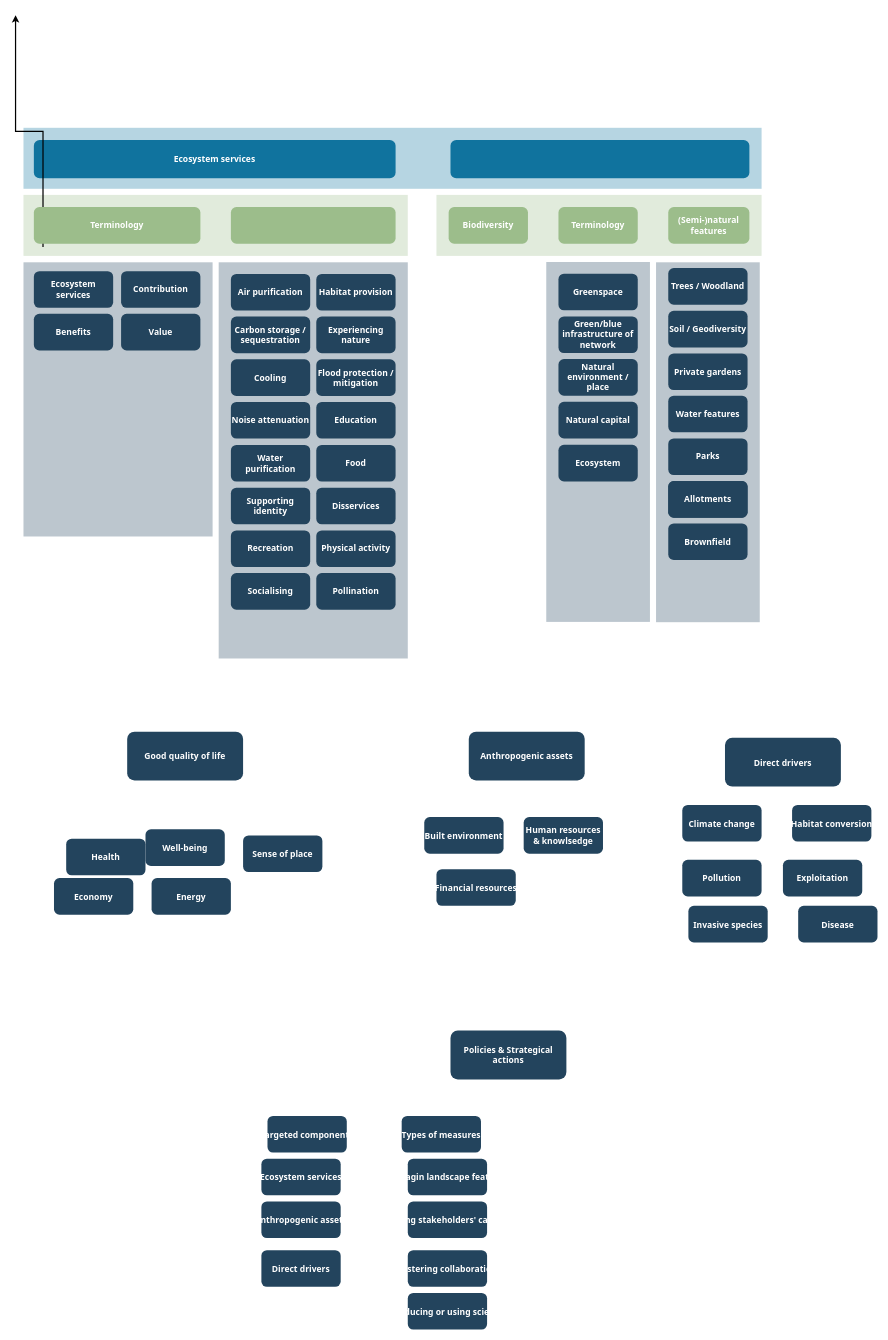
The diagram is 888 pixels wide and 1340 high, and some of its shapes have lost their labels. Each missing label, with the centre of its shape:
Individual services: (313,225)
Nature: (599,159)
